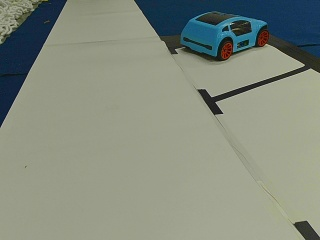car: (180, 12, 268, 60)
